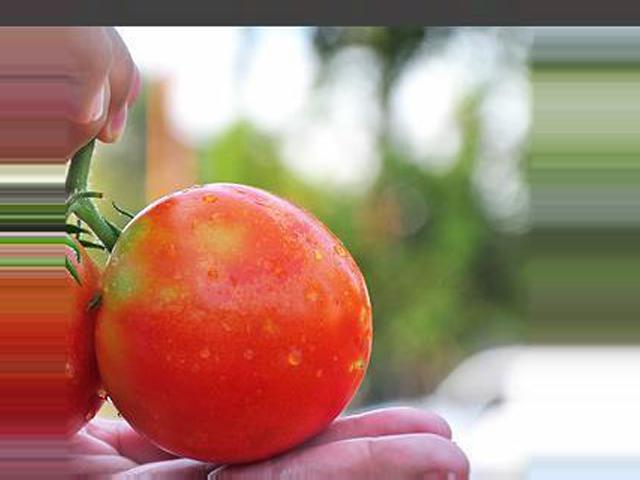tomato: (97, 182, 371, 461)
